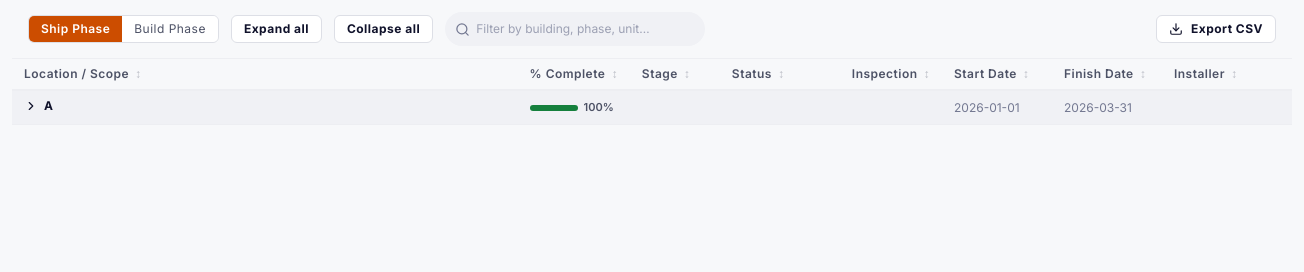
Test: scope name display — canonical vs raw › shows canonicalScopeType.displayName when present (not raw scopeType.name)
Click the button "Expand all" at (276, 29), box [231,15,322,43]
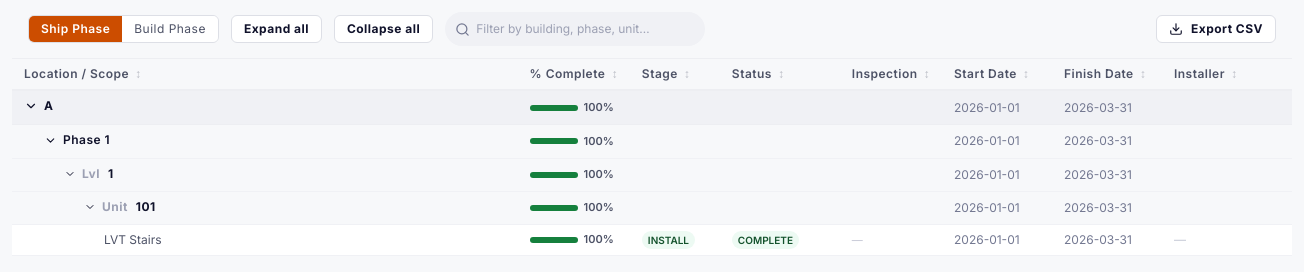
Expected: the text "LVT Stairs" is shown, [12,224,518,255]
